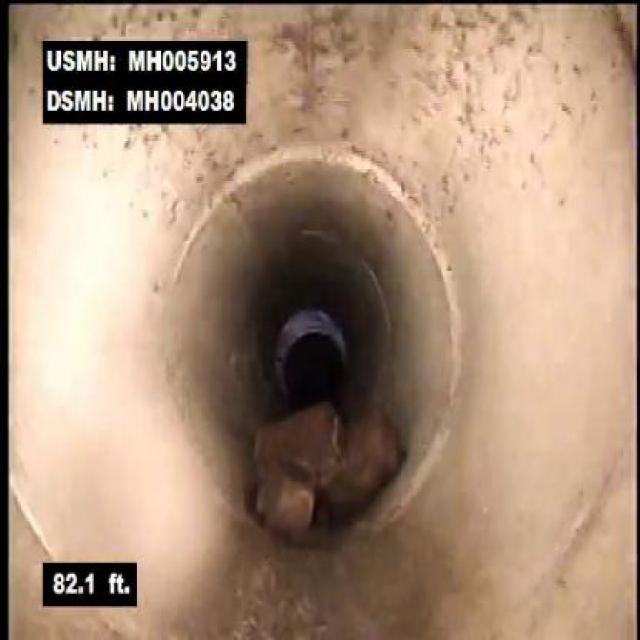Obstacle: (234, 382, 429, 552)
